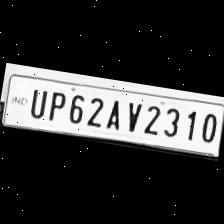0: (196, 108, 220, 144)
1: (178, 106, 200, 142)
2: (140, 100, 164, 137), (82, 92, 106, 128)
3: (158, 102, 183, 140)
6: (62, 89, 86, 126)
A: (102, 95, 126, 132)
P: (43, 86, 68, 124)
U: (24, 84, 50, 120)
V: (120, 96, 144, 134)
